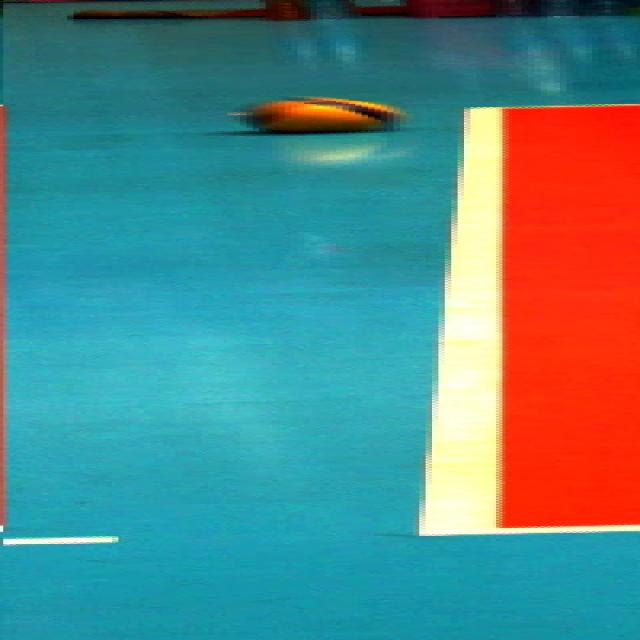Volleyball: (240, 94, 408, 134)
